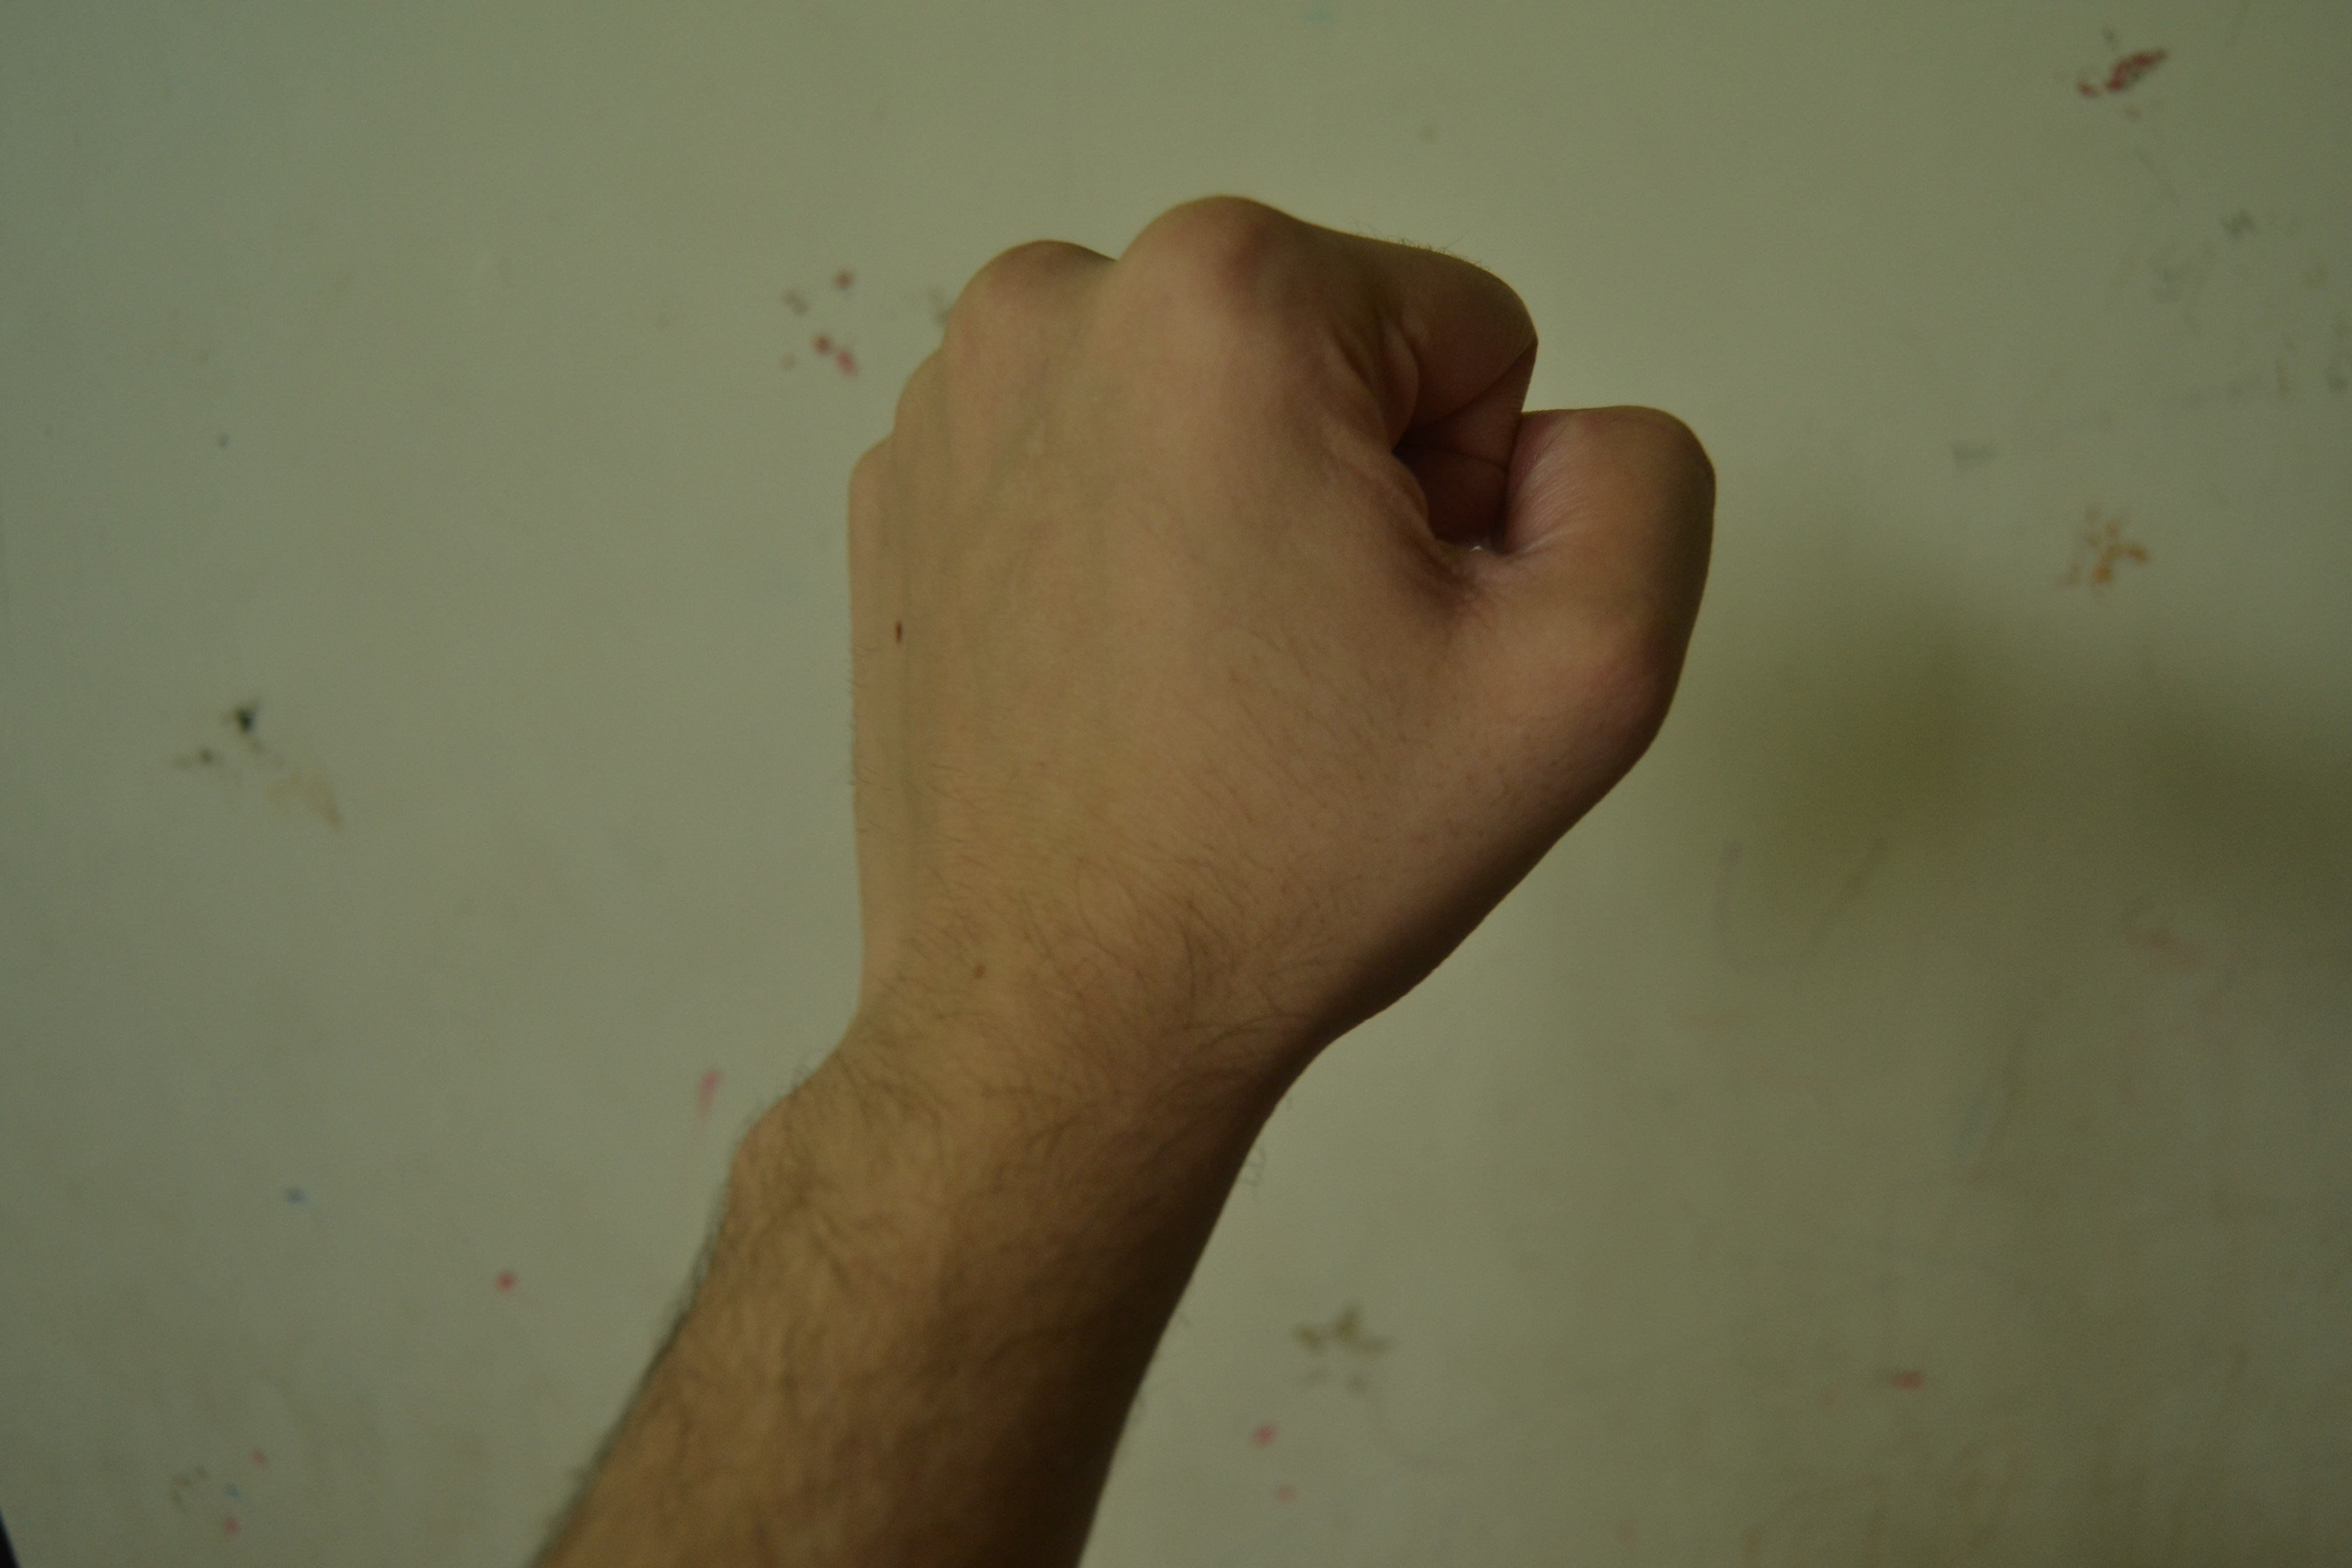click: (758, 222, 1766, 1451)
